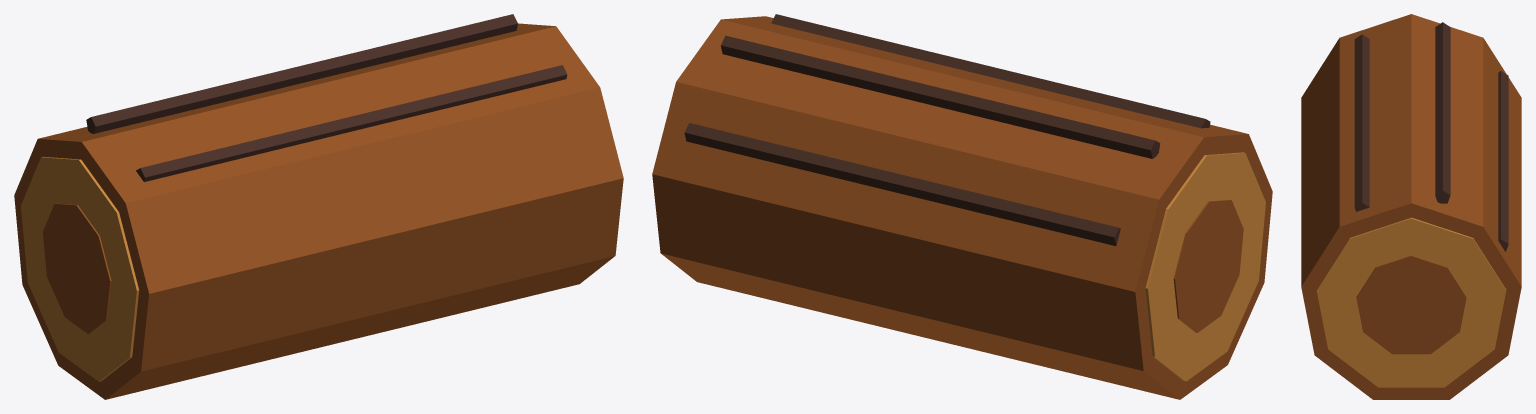
Rendered from log.glb.
3 views of the same model, side by side, from view 1: azimuth 30°, elevation 25°; view 2: azimuth 150°, elevation 25°; view 3: azimuth 270°, elevation 25° (orthographic). The views are drawn at different scales.
Parts seen in each view (by area): view 1: Bark, End grain, Bark ridge.001, Bark ridge, Heartwood; view 2: Bark, End grain, Bark ridge.001, Bark ridge.002, Heartwood, Bark ridge; view 3: Bark, End grain.001, Heartwood.001, Bark ridge.001, Bark ridge, Bark ridge.002.
Boxes of the visible parts, x1,y1,x2,y2 form: Bark: (14, 23, 623, 399); End grain: (21, 156, 139, 381); Bark ridge.001: (86, 14, 517, 133); Bark ridge: (136, 65, 567, 181); Heartwood: (42, 203, 111, 334); Bark: (652, 16, 1272, 399); End grain: (1145, 152, 1265, 381); Bark ridge.001: (721, 35, 1160, 158); Bark ridge.002: (684, 123, 1120, 245); Heartwood: (1173, 200, 1243, 332); Bark ridge: (771, 14, 1210, 128); Bark: (1301, 14, 1521, 399); End grain.001: (1316, 217, 1506, 387); Heartwood.001: (1356, 255, 1466, 354); Bark ridge.001: (1435, 22, 1450, 203); Bark ridge: (1354, 34, 1369, 211); Bark ridge.002: (1498, 71, 1508, 251).
Size of the model in its own units: 1.02 by 0.4929 by 0.4924.
